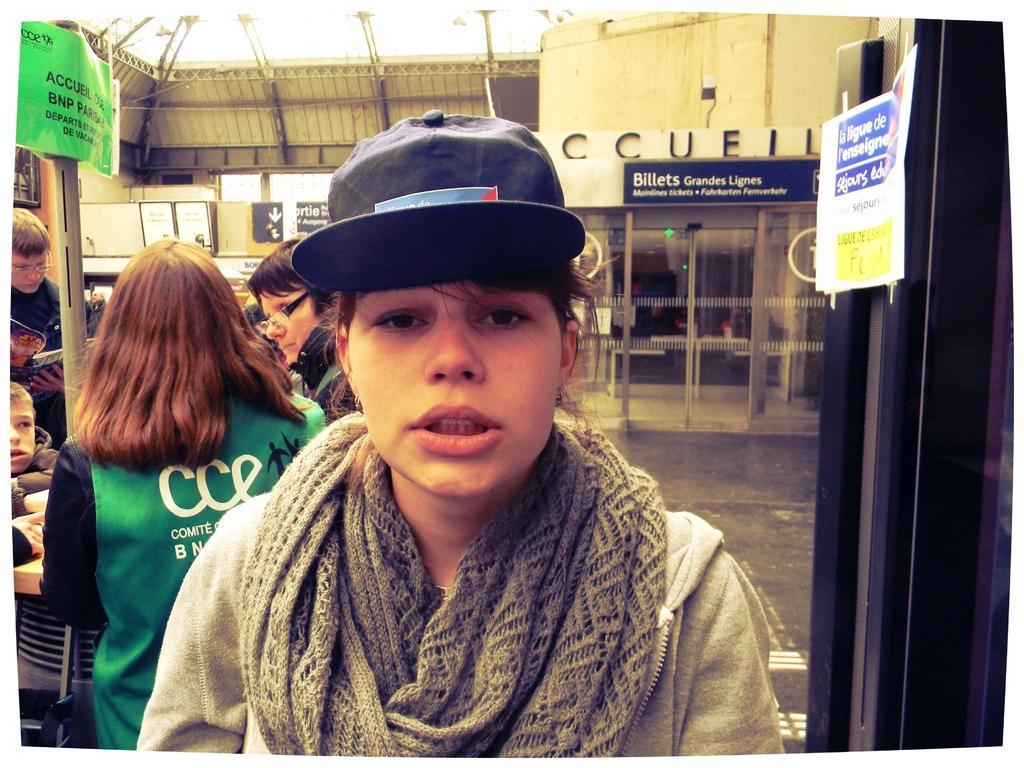Hat: (288, 102, 588, 298)
